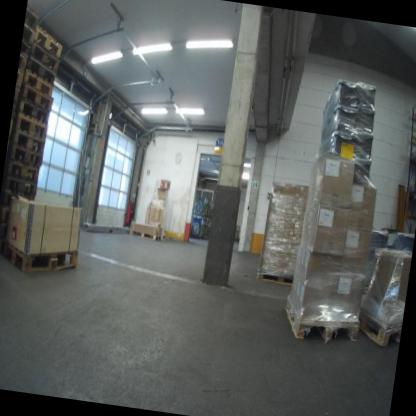pallet: (0, 225, 87, 291), (279, 287, 364, 347), (355, 310, 402, 353), (16, 78, 57, 115), (19, 71, 60, 103), (254, 266, 307, 289), (26, 55, 63, 87), (14, 109, 50, 140), (26, 44, 62, 75), (37, 28, 69, 61), (16, 102, 53, 128), (3, 160, 43, 182), (1, 177, 37, 199), (10, 146, 43, 169), (11, 135, 48, 154), (24, 10, 42, 35), (130, 231, 162, 242), (23, 26, 35, 47)
